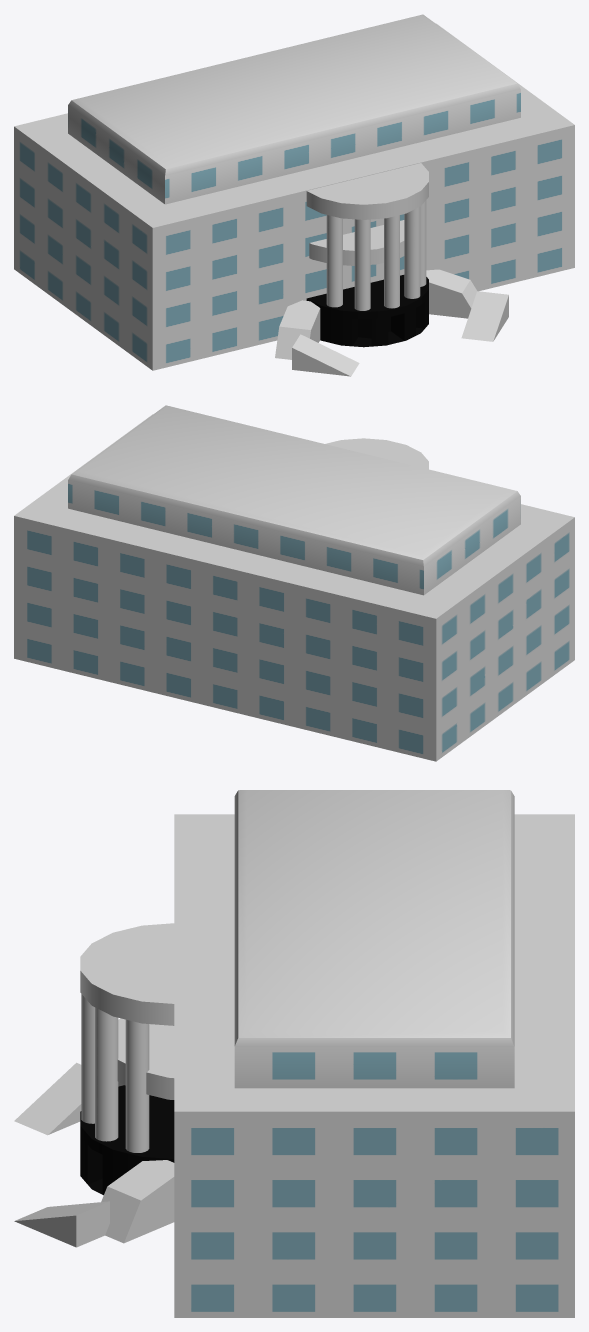
Rendered from WhiteHouse.fbx.
The picture shows the model from 3 angles, top to bottom: view 1: azimuth 30°, elevation 25°; view 2: azimuth 150°, elevation 25°; view 3: azimuth 270°, elevation 25°; orthographic projection. The views are drawn at different scales.
Parts seen in each view (by area): view 1: Box001; view 2: Box001; view 3: Box001.
Part boxes in pixels (left/top/right/bottom): Box001: left=14, top=14, right=574, bottom=376; Box001: left=14, top=405, right=574, bottom=761; Box001: left=14, top=790, right=574, bottom=1317.
Size of the model in its own units: 138 by 55.74 by 110.
2 materials, 1 textured.
